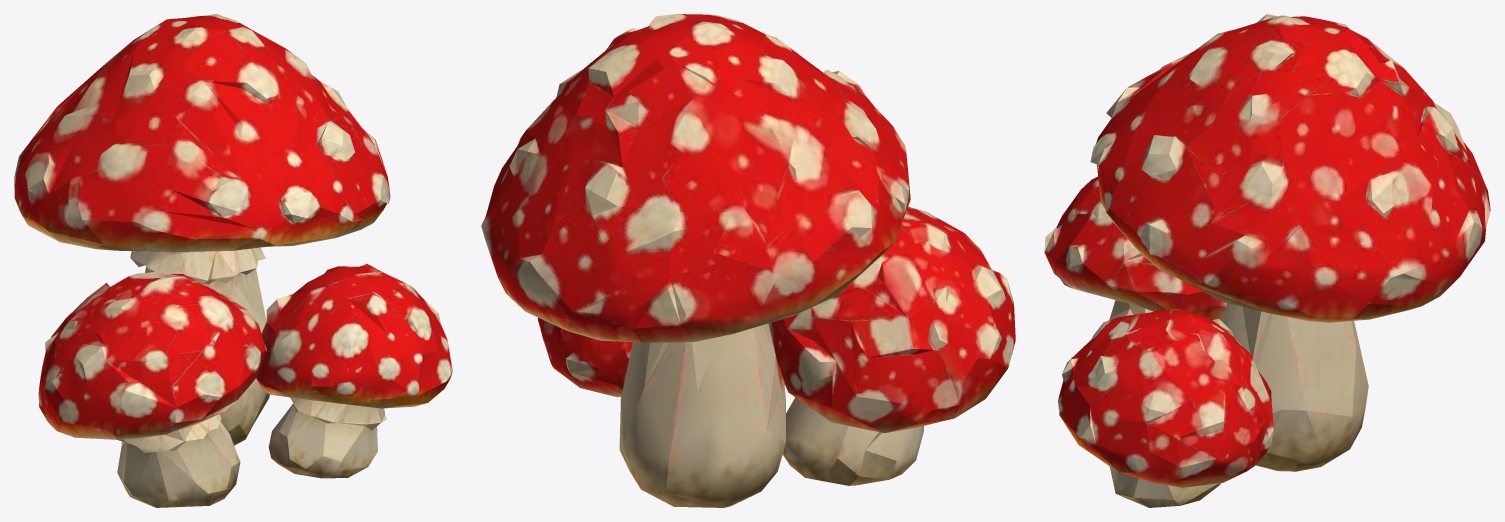
Rendered from mushroom.glb.
3 views of the same model, side by side, from view 1: azimuth 30°, elevation 25°; view 2: azimuth 150°, elevation 25°; view 3: azimuth 270°, elevation 25° (orthographic). The views are drawn at different scales.
Size of the model in its own units: 1.88 by 1.9 by 1.76.
1 material, 1 textured.
